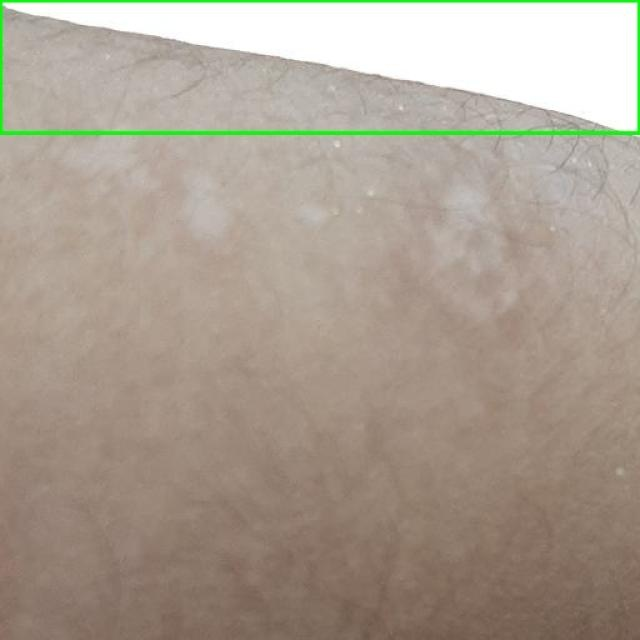Atopic Dermatitis: (0, 0, 639, 134)
